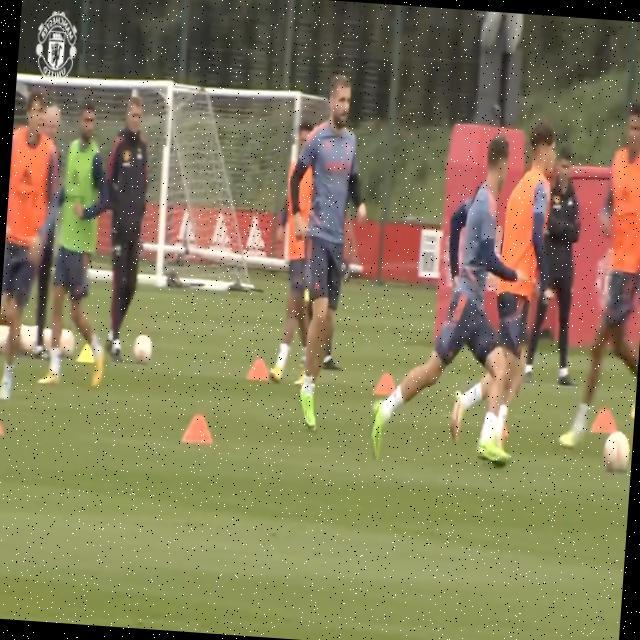Adidas: (242, 209, 270, 258), (206, 212, 235, 254), (175, 210, 199, 247)
